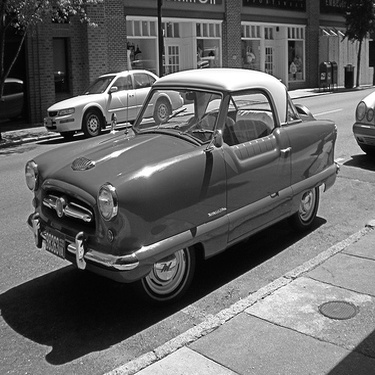car: (24, 47, 364, 304), (43, 33, 185, 142), (354, 89, 375, 156)
